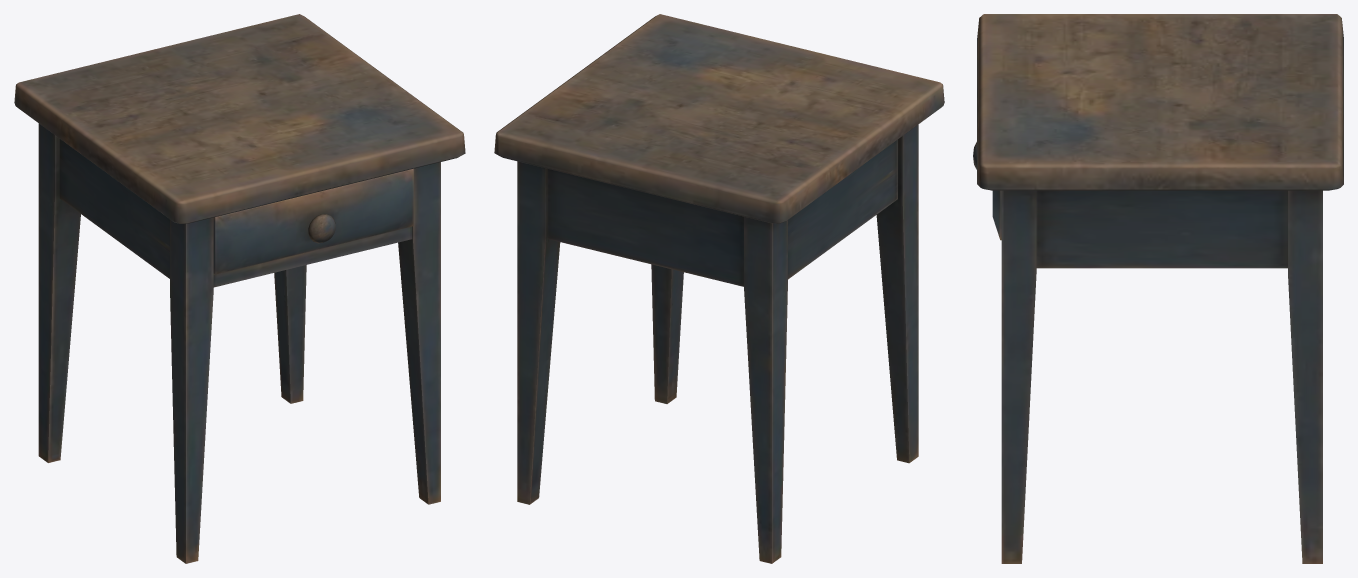
Rendered from painted_wooden_nightstand.glb.
3 views of the same model, side by side, from view 1: azimuth 30°, elevation 25°; view 2: azimuth 150°, elevation 25°; view 3: azimuth 270°, elevation 25° (orthographic). The views are drawn at different scales.
Parts seen in each view (by area): view 1: painted_wooden_nightstand; view 2: painted_wooden_nightstand; view 3: painted_wooden_nightstand.
Part boxes in pixels (bbox=[...]): painted_wooden_nightstand: bbox=[14, 14, 465, 563]; painted_wooden_nightstand: bbox=[494, 14, 944, 563]; painted_wooden_nightstand: bbox=[973, 14, 1343, 563].
Bounding box in the file's own units: 0.5045 × 0.6155 × 0.5087.
Materials: 1 (1 with a texture image).
